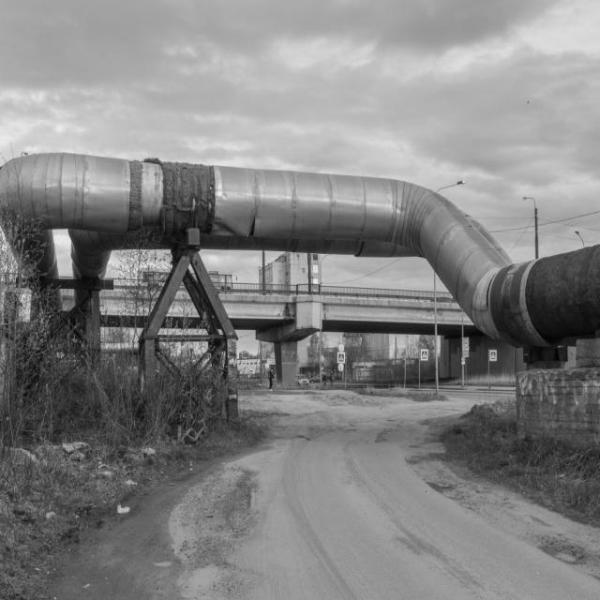no leak: (131, 152, 309, 216)
